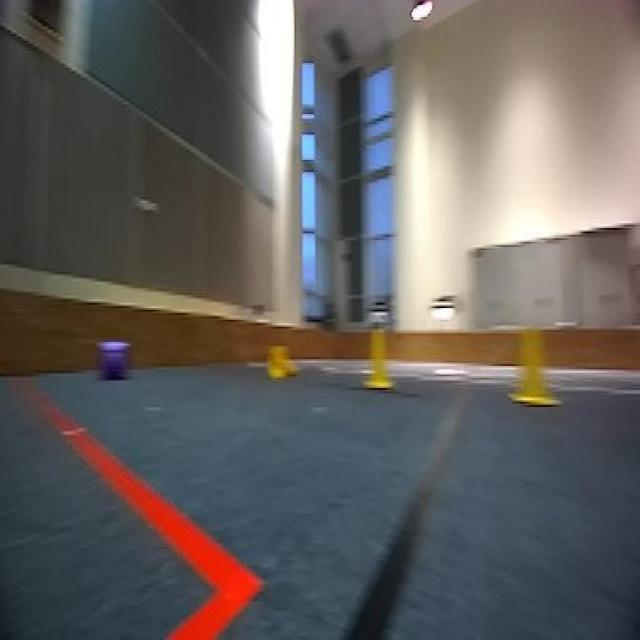frc_cone: (512, 325, 556, 412), (363, 320, 394, 391), (267, 342, 301, 381)
frc_cube: (100, 336, 130, 382)
